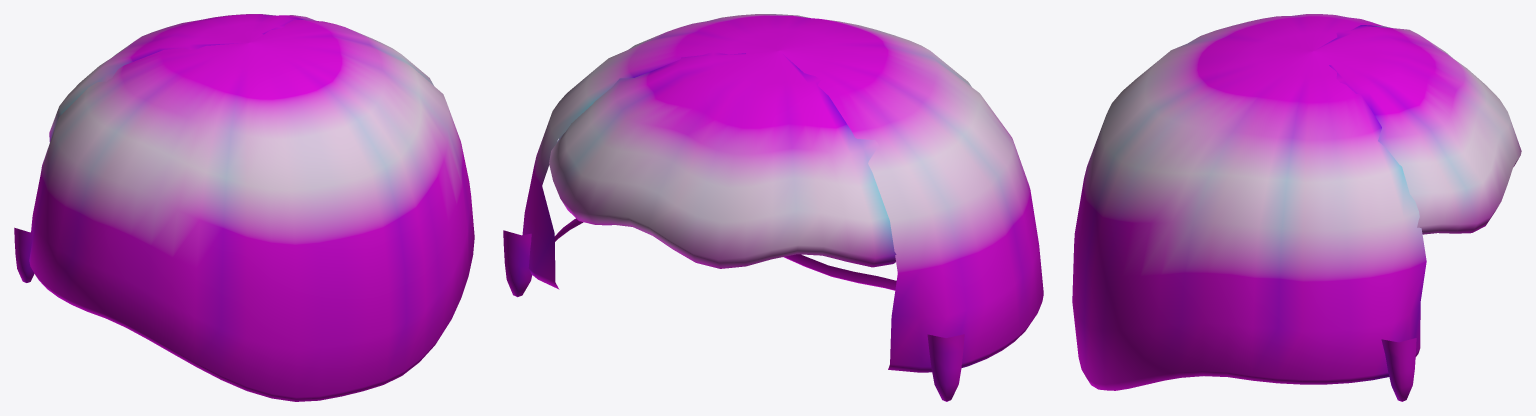
File: buzz_low.glb
The picture shows the model from 3 angles, left to right: view 1: azimuth 30°, elevation 25°; view 2: azimuth 150°, elevation 25°; view 3: azimuth 270°, elevation 25°; orthographic projection. The views are drawn at different scales.
Visible parts, largest first — view 1: buzz; view 2: buzz; view 3: buzz.
Boxes of the visible parts, x1,y1,x2,y2 form: buzz: [14, 14, 474, 401]; buzz: [503, 14, 1043, 401]; buzz: [1072, 14, 1521, 401].
Size of the model in its own units: 0.8073 by 0.5356 by 0.705.
